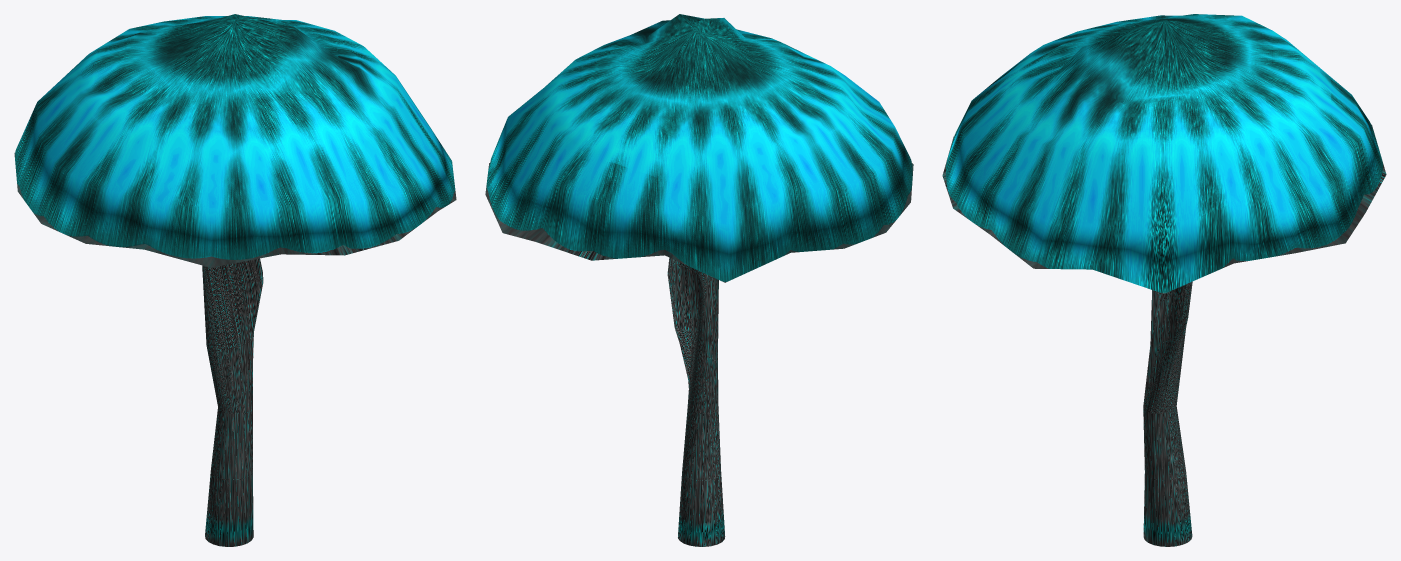
The model's file is mushroom3.fbx.
3 renders of one model, left to right at view 1: azimuth 30°, elevation 25°; view 2: azimuth 150°, elevation 25°; view 3: azimuth 270°, elevation 25°, orthographic. The views are drawn at different scales.
Parts seen in each view (by area): view 1: pCylinder1; view 2: pCylinder1; view 3: pCylinder1.
Boxes of the visible parts, x1,y1,x2,y2 form: pCylinder1: (14, 14, 456, 546); pCylinder1: (485, 14, 913, 546); pCylinder1: (942, 14, 1386, 546).
Bounding box in the file's own units: 9.31 × 12.06 × 9.34.
3 materials, 3 textured.
